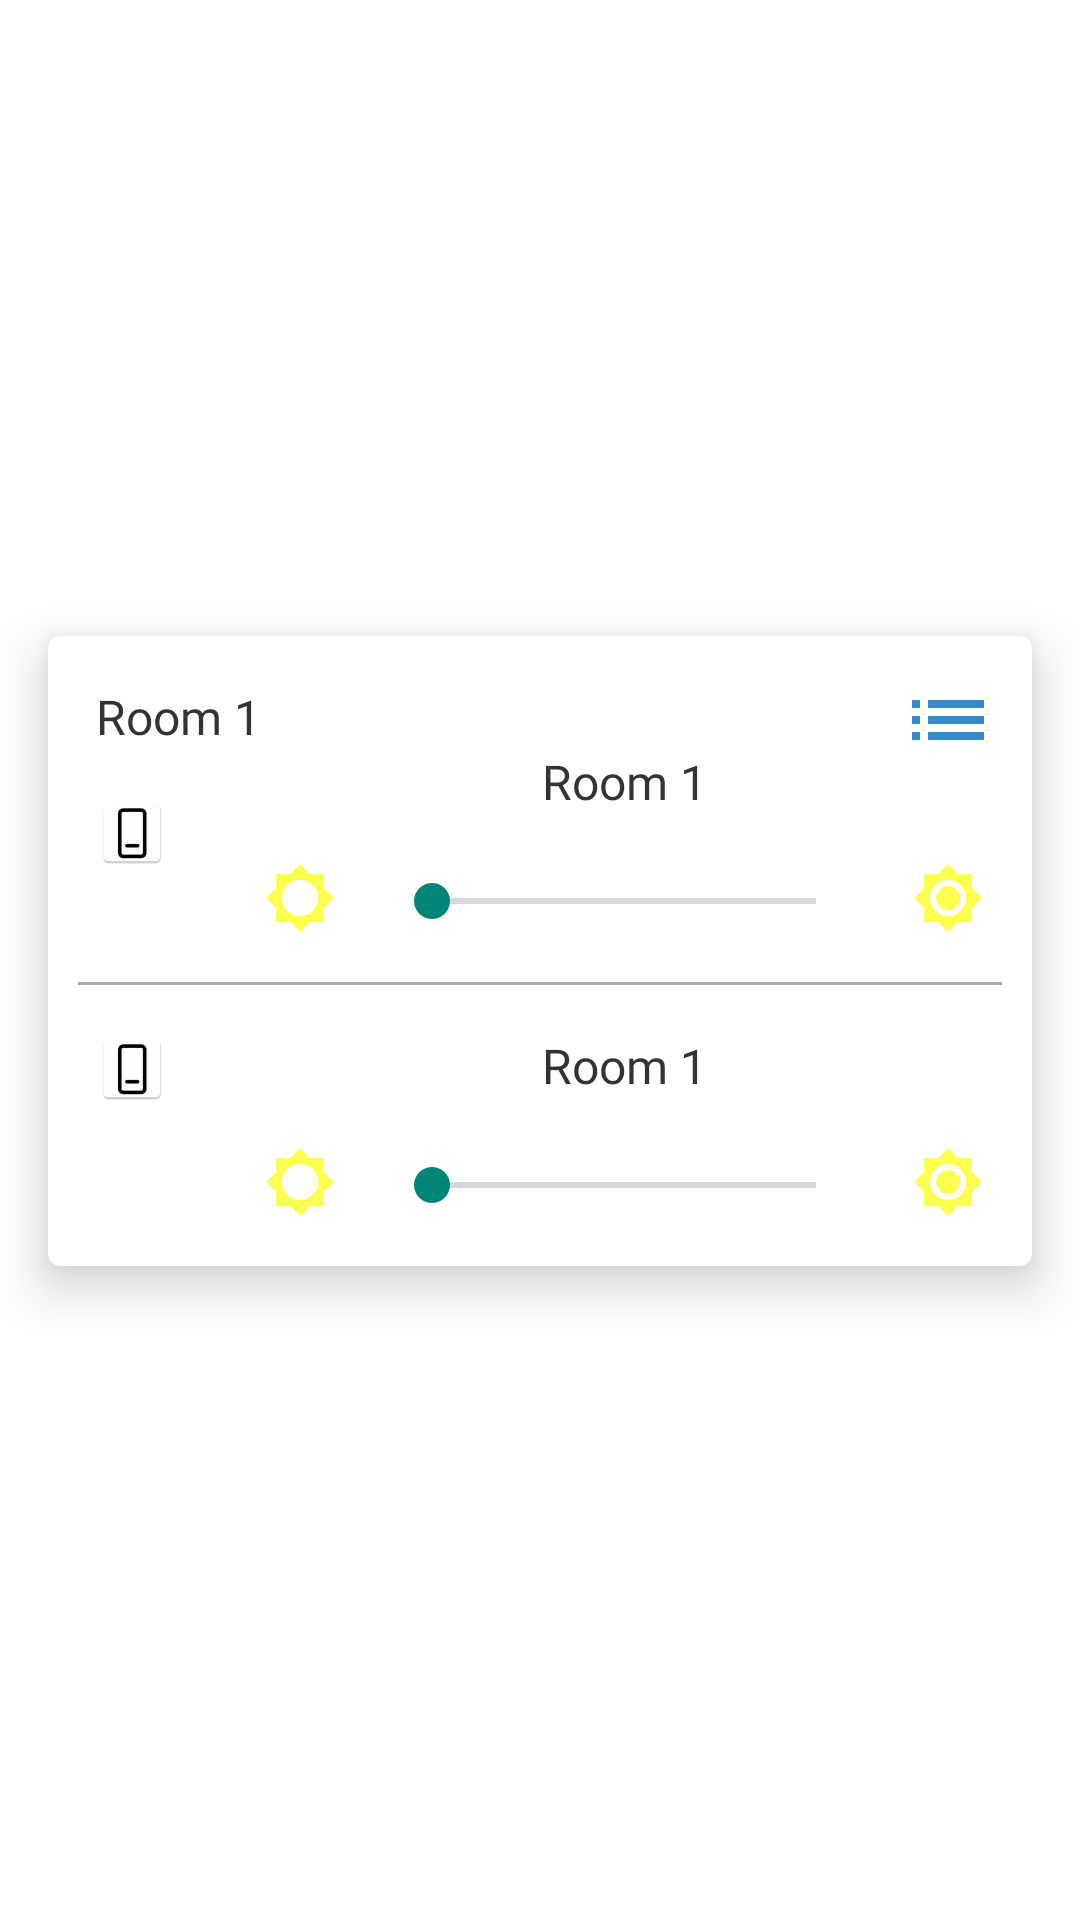

Point at icon controls on the screen. Image size 1080w x 1920h, points as (x=x, y=y).
high brightness: (x=948, y=898), (x=948, y=1182)
low brightness: (x=300, y=898), (x=300, y=1182)
menu: (x=948, y=720)
